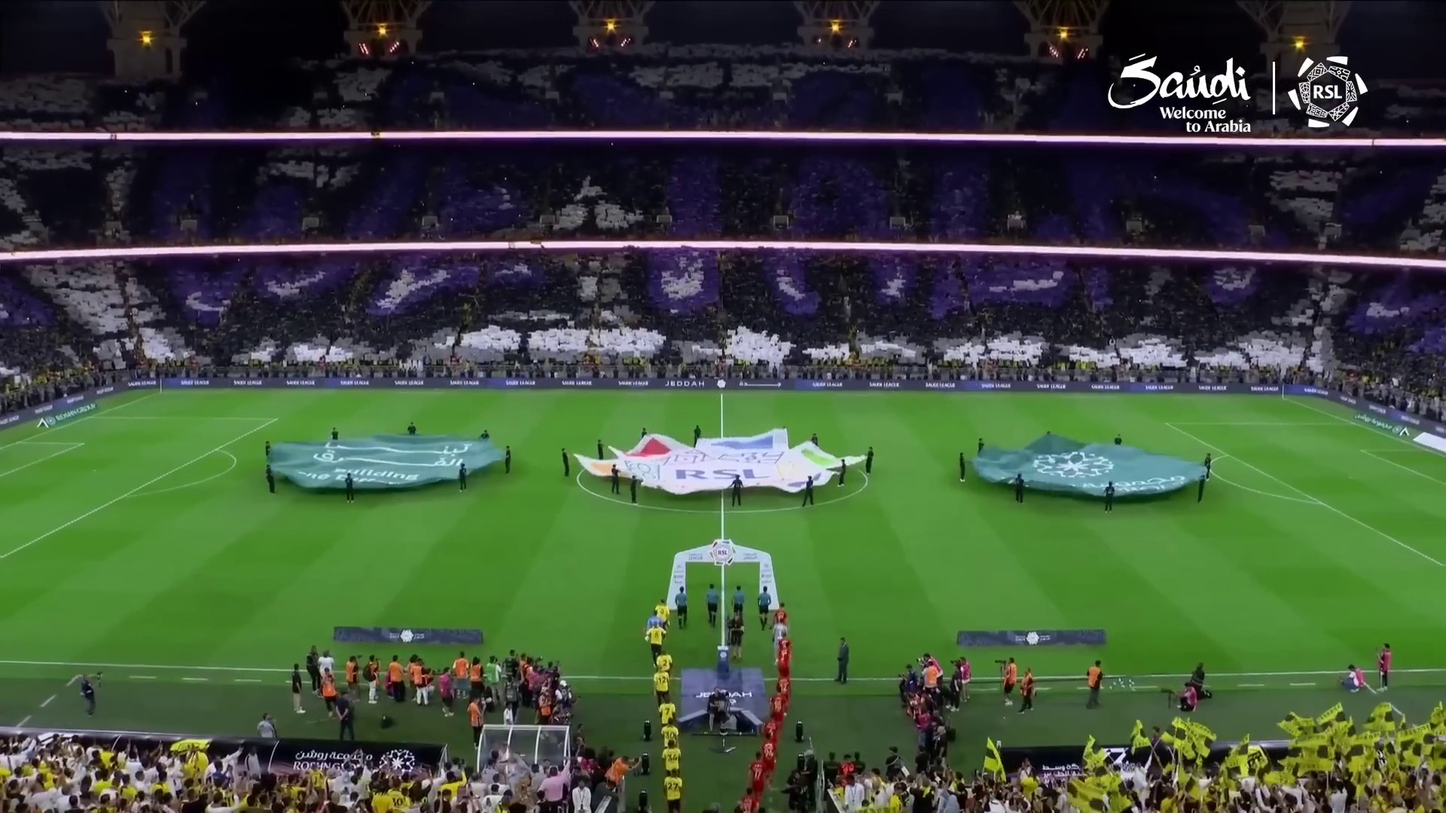player: (735, 752, 771, 813), (1373, 641, 1396, 693), (437, 668, 458, 719), (1017, 669, 1039, 716), (999, 657, 1019, 705), (723, 472, 746, 508), (340, 466, 360, 505), (799, 473, 819, 511), (1192, 466, 1211, 505), (454, 459, 473, 494), (626, 472, 642, 507), (955, 451, 969, 485)
referee: (68, 671, 106, 717), (832, 635, 853, 686), (722, 470, 746, 509), (1098, 472, 1119, 514), (1008, 468, 1030, 505), (341, 466, 359, 505), (608, 460, 622, 495)
